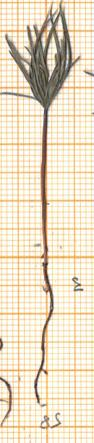flower: (0, 1, 85, 113)
root: (30, 246, 59, 407)
stem: (36, 109, 58, 247)
